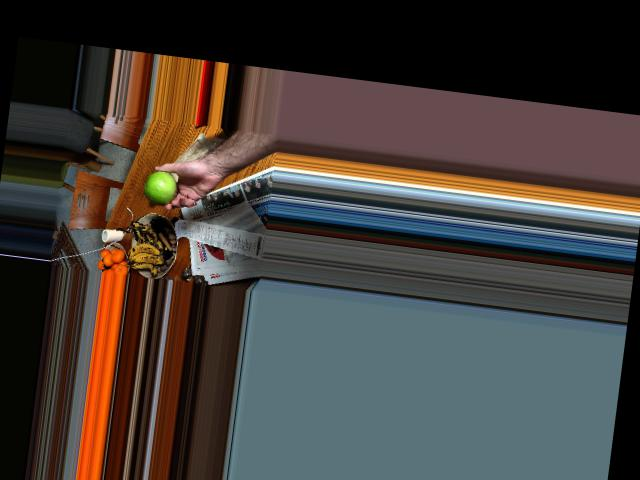apple: (136, 169, 179, 206)
